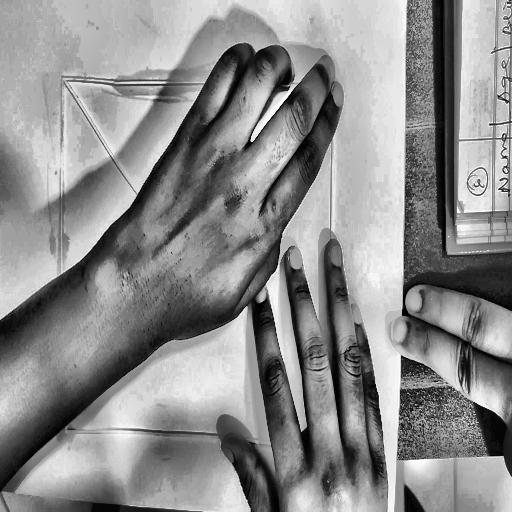envelop: (55, 69, 338, 455)
